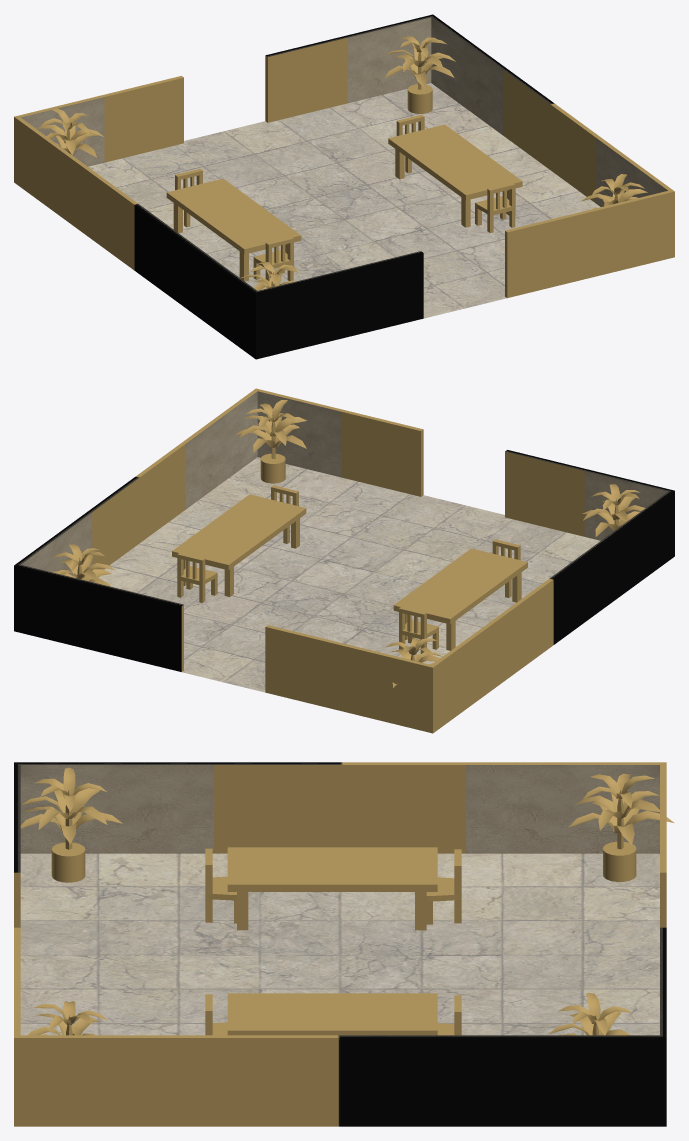
Rendered from Room_1Exit02_Type01.fbx.
The picture shows the model from 3 angles, top to bottom: view 1: azimuth 30°, elevation 25°; view 2: azimuth 150°, elevation 25°; view 3: azimuth 270°, elevation 25°; orthographic projection. The views are drawn at different scales.
Visible parts, largest first — view 1: Room1x1_2Exits2, Table02, Table03, Plant010, Plant07, Chair05, Chair01, Plant09, Plant08, Chair1; view 2: Room1x1_2Exits2, Table03, Table02, Plant09, Plant08, Chair1, Plant010, Chair, Plant07; view 3: Room1x1_2Exits2, Table03, Table02, Plant07, Plant08, Plant010, Plant09, Chair, Chair01, Chair1.
Part boxes in pixels (x1,y1,x2,y2): Room1x1_2Exits2: (14,14,674,359); Table02: (388,124,522,227); Table03: (166,178,301,281); Plant010: (384,36,455,113); Plant07: (36,108,103,157); Chair05: (475,182,515,232); Chair01: (253,236,293,280); Plant09: (581,174,647,209); Plant08: (240,261,299,290); Chair1: (396,114,424,173); Room1x1_2Exits2: (14,388,674,733); Table03: (393,548,527,650); Table02: (172,494,306,596); Plant09: (235,400,306,483); Plant08: (582,484,645,536); Chair1: (177,552,217,602); Plant010: (51,544,115,586); Chair: (399,606,438,653); Plant07: (385,638,441,687); Room1x1_2Exits2: (14,762,666,1126); Table03: (227,847,437,930); Table02: (227,993,437,1035); Plant07: (568,773,673,881); Plant08: (20,767,122,882); Plant010: (549,992,632,1035); Plant09: (28,1001,108,1035); Chair: (426,849,461,924); Chair01: (205,848,236,923); Chair1: (437,995,461,1035).
Bounding box in the file's own units: 10 × 1.64 × 10.13.
